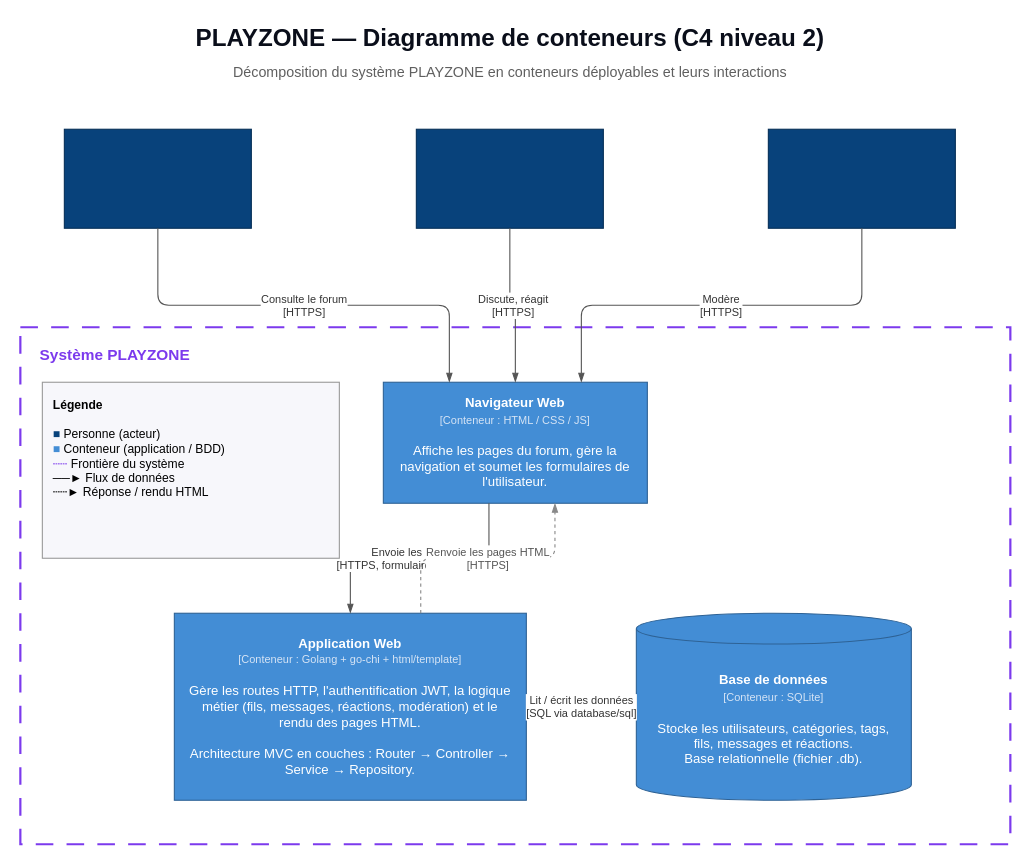
The diagram is 1030 pixels wide and 864 high, and some of its shapes have lost their labels. The shapes that lost their labels are listed below. From the top down, each one's centre as x and y in pixels, then its label:
point (157, 178): Visiteur [Personne] Consulte les fils sans être connecté.
point (509, 178): Utilisateur authentifié [Personne] Crée des fils, poste, réagit aux messages.
point (861, 178): Administrateur [Personne] Modère, gère les états, bannit les comptes.
